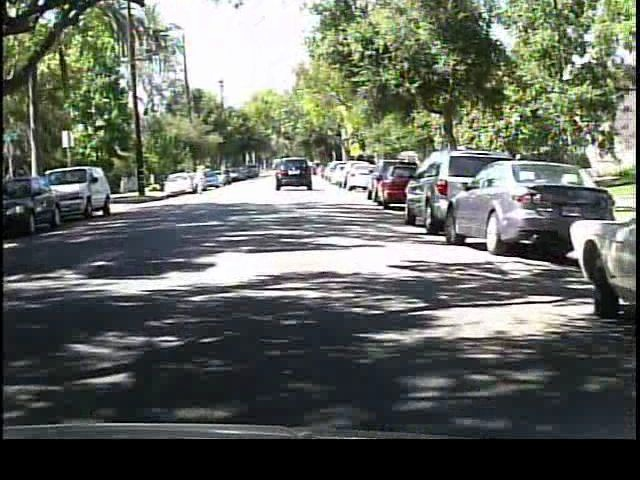person: (189, 161, 208, 200)
